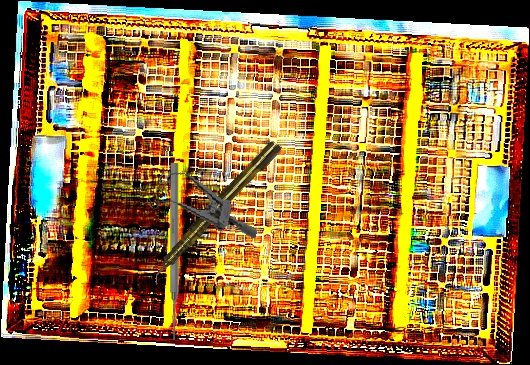Handpiece: (144, 137, 285, 286)
Pusher: (168, 163, 180, 340)
Speculum: (141, 164, 267, 240)
